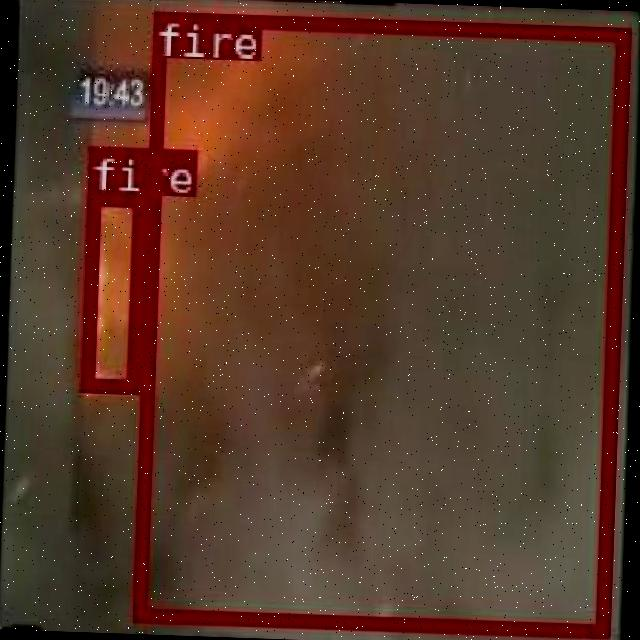fire: (130, 9, 627, 636), (77, 189, 143, 390)
